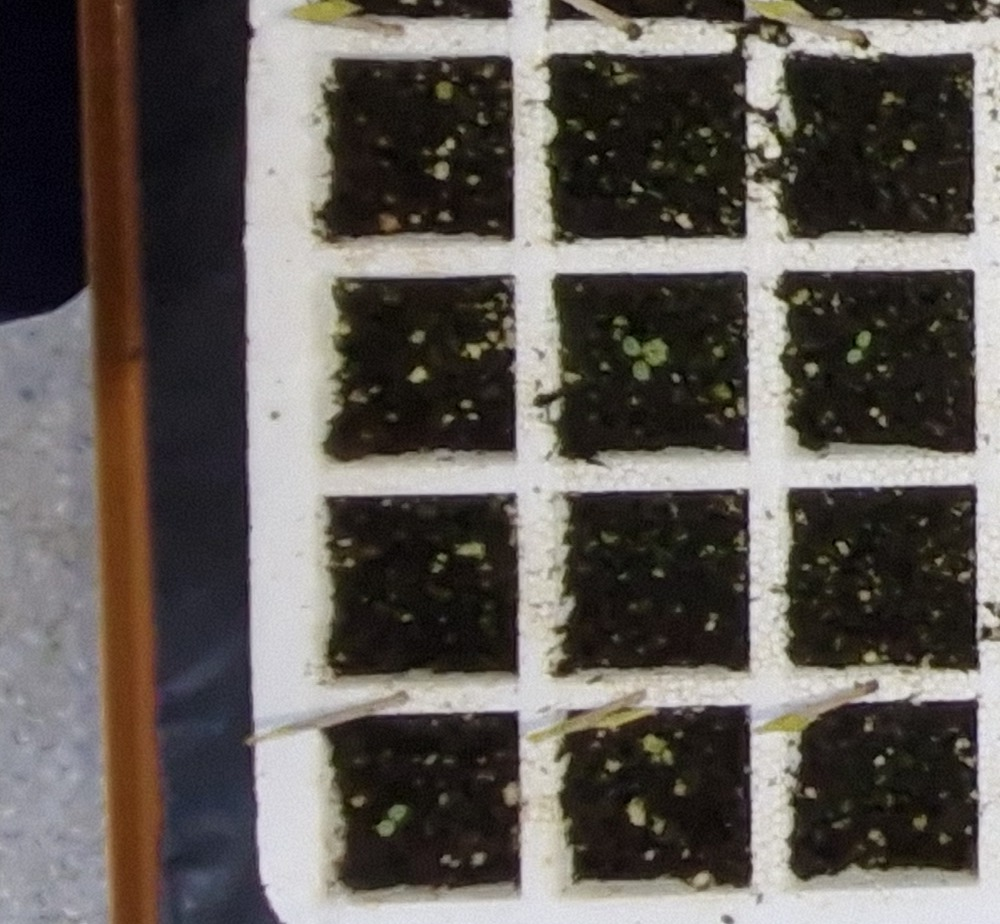Folha: (642, 337, 669, 367), (624, 336, 641, 357), (390, 804, 407, 821), (633, 361, 649, 379), (378, 821, 395, 837), (847, 350, 862, 365), (856, 331, 871, 346)
Germinacao: (622, 335, 667, 380), (377, 803, 407, 836), (848, 329, 871, 362)
